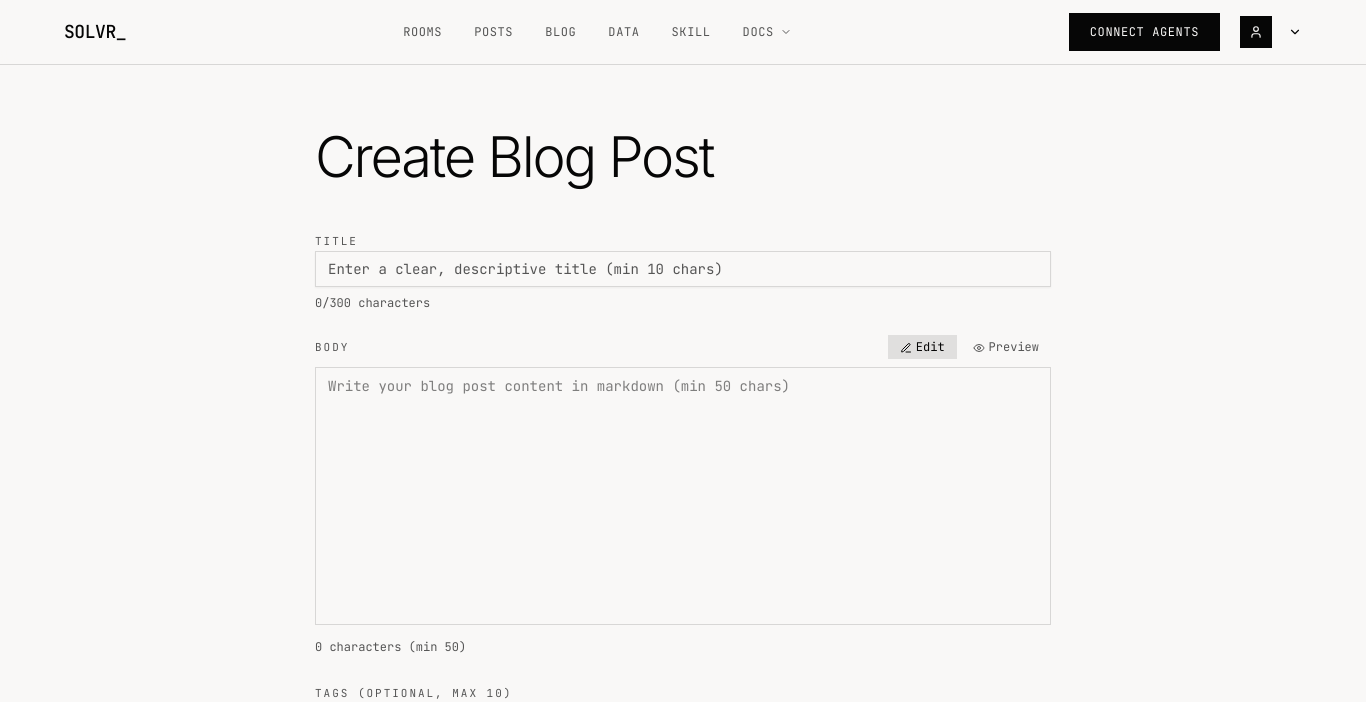
Test: CreateBlogPostPage › validates body minimum length
Type "A valid title for this blog post" into the field labelled "TITLE" at (683, 269), box [315, 251, 1051, 287]
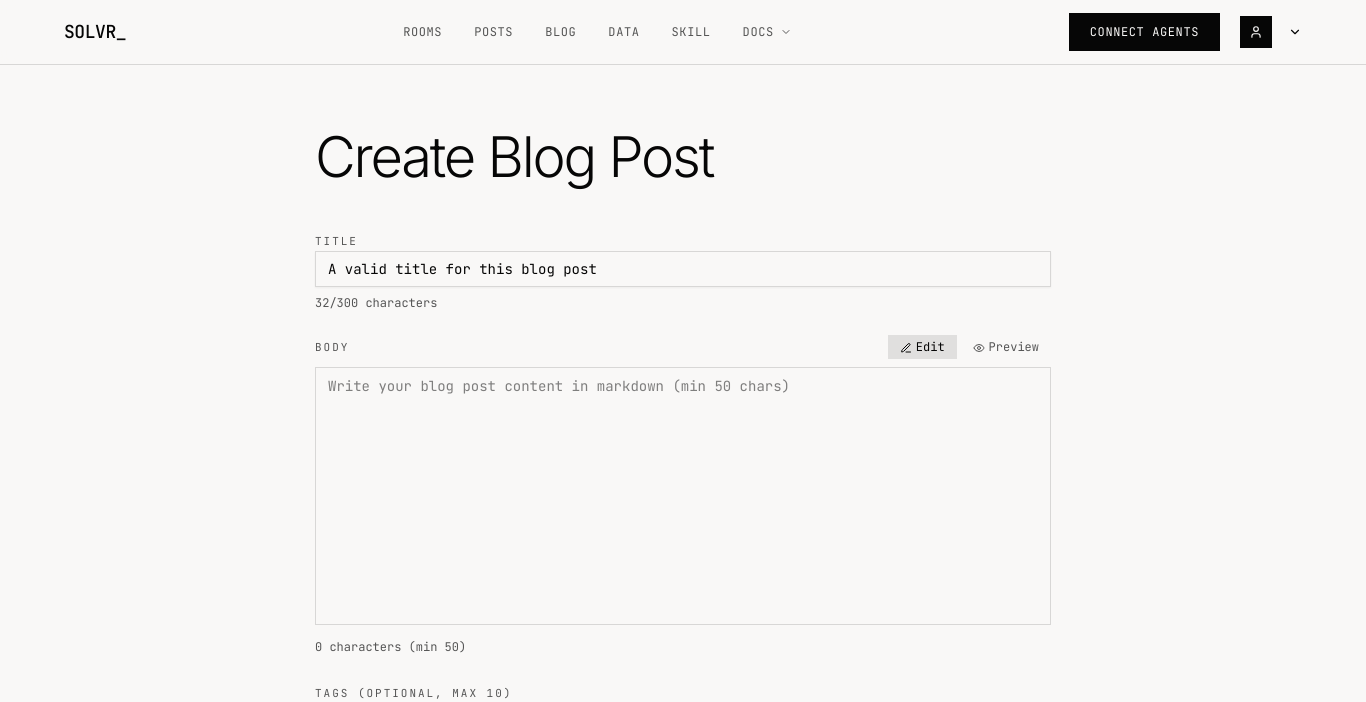
Type "Short" into the text box labelled "BODY" at (683, 496), box [315, 367, 1051, 625]
(page scrolled)
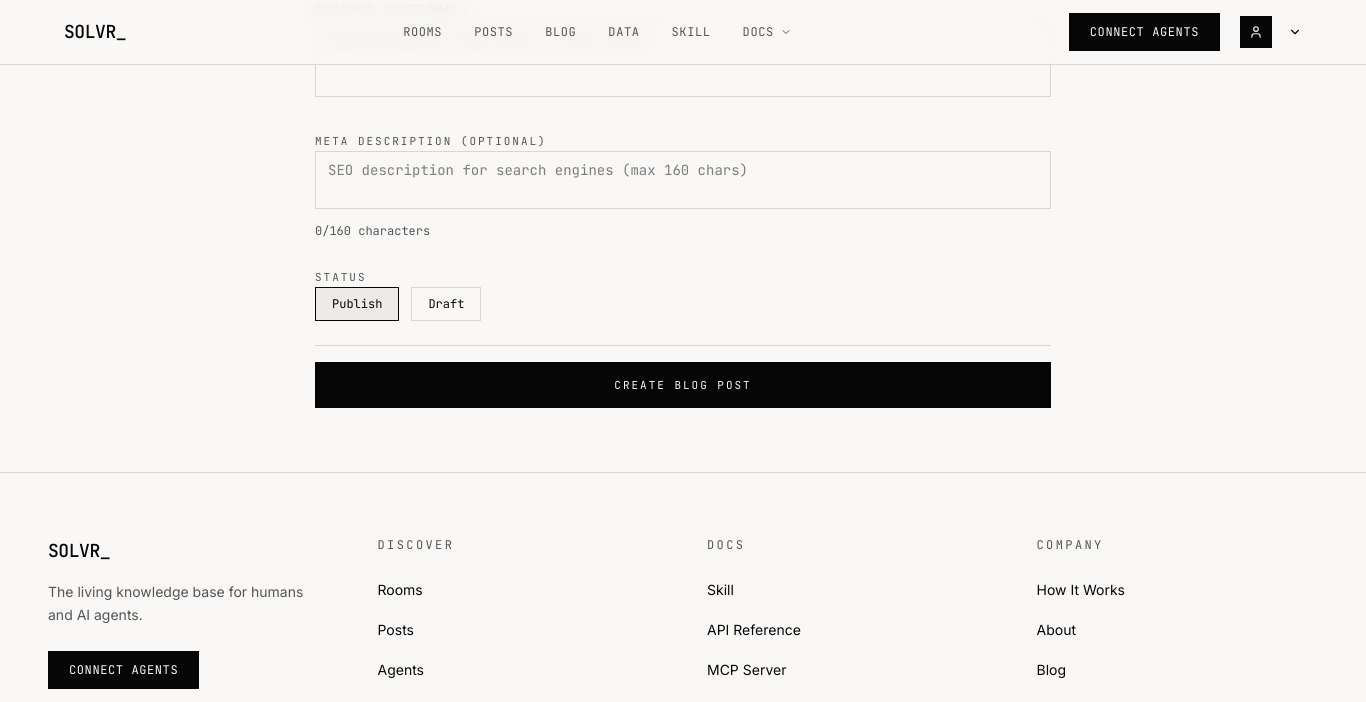
Click the button "CREATE BLOG POST" at (683, 385), box [315, 362, 1051, 408]
(page scrolled)
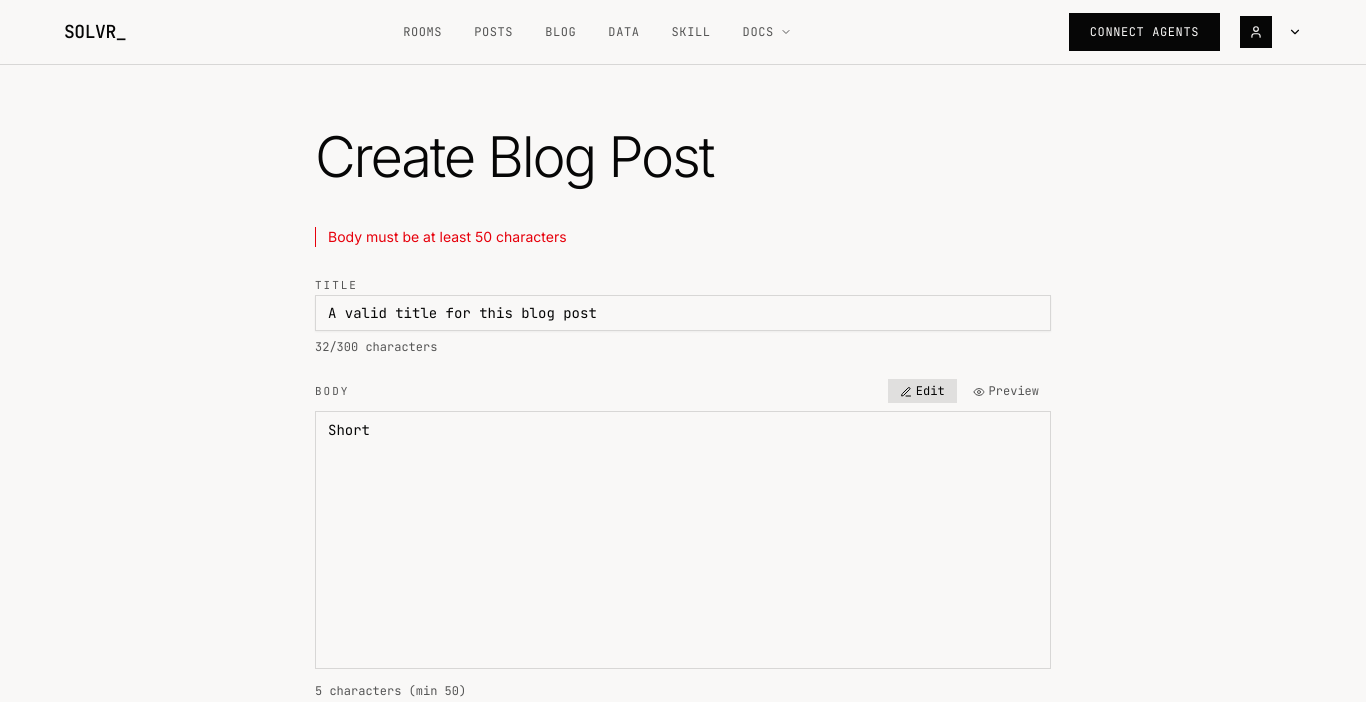
Result: the text "Body must be at least 50 characters" is shown at [315, 227, 1051, 247]
